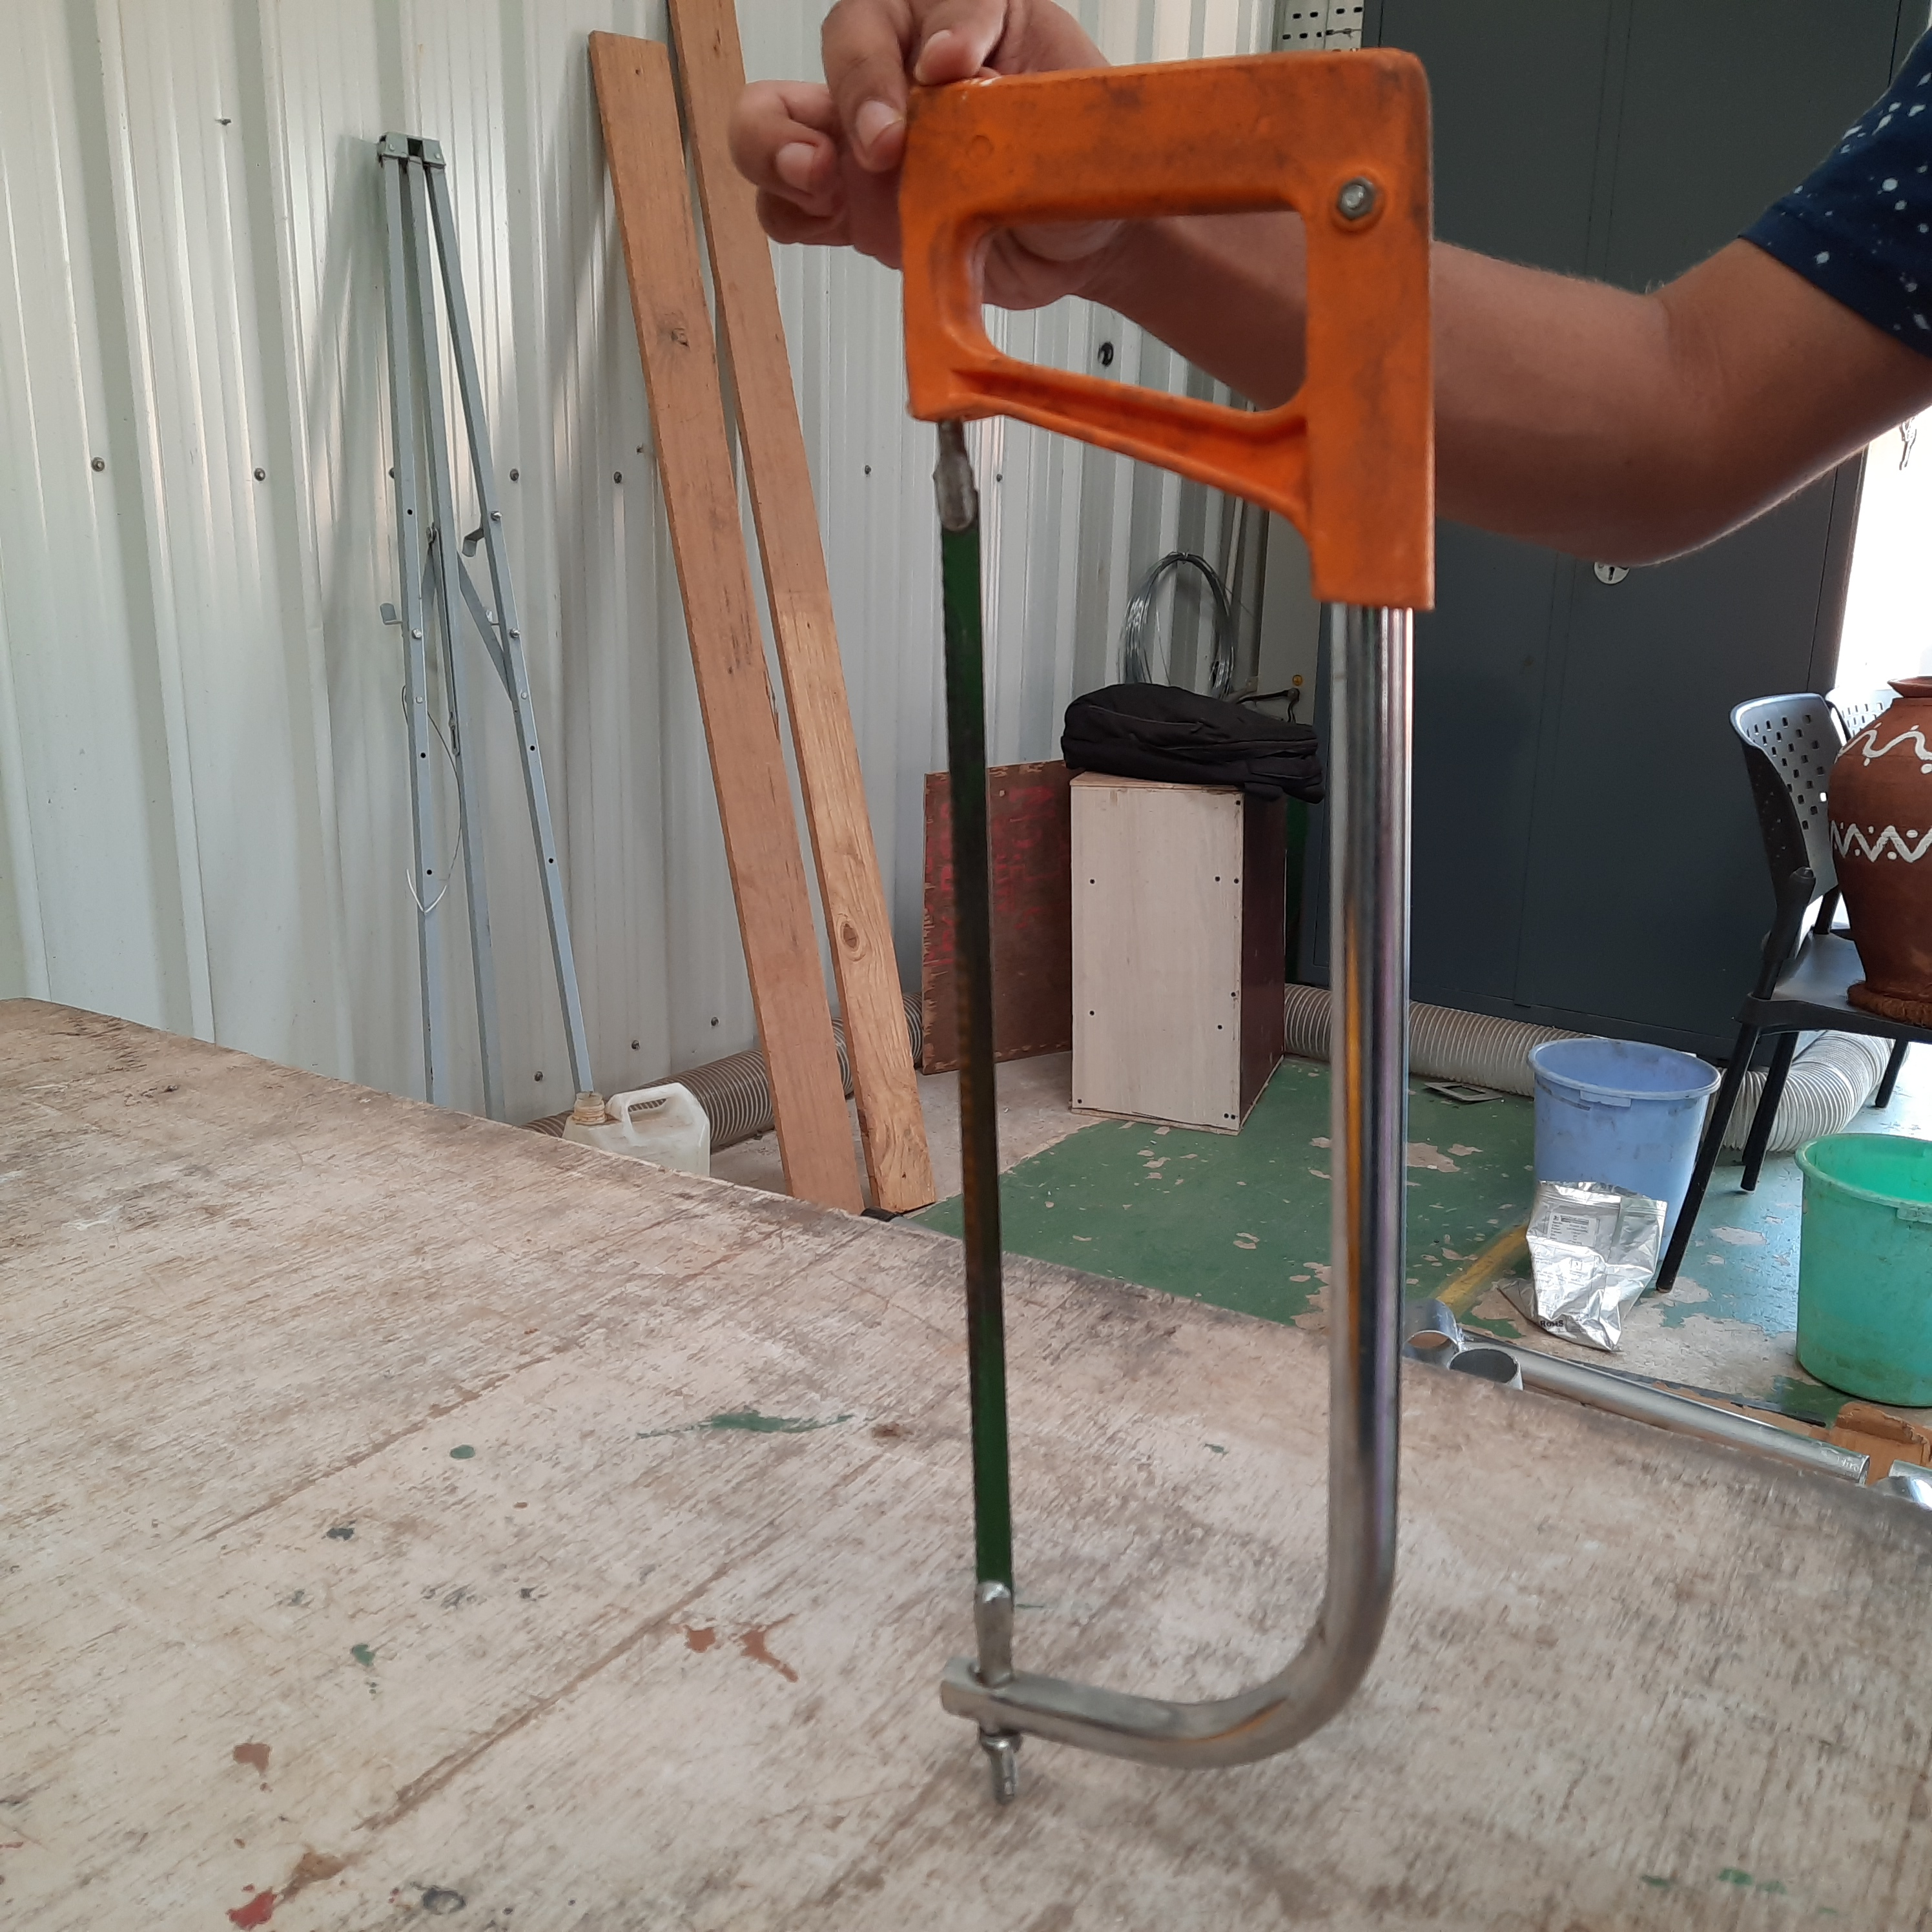Hexaframe: (870, 27, 1477, 1782)
